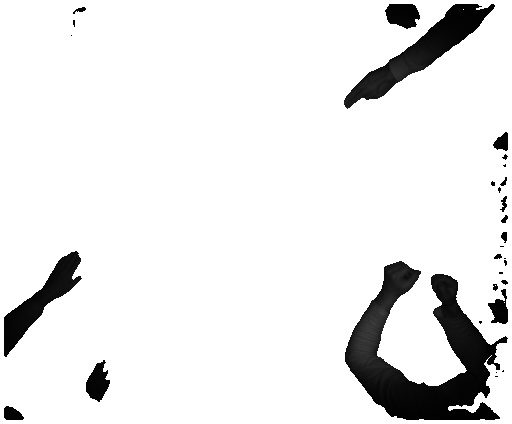fist: (378, 256, 424, 302), (430, 272, 463, 305)
hand: (42, 248, 87, 304), (344, 70, 396, 111)
